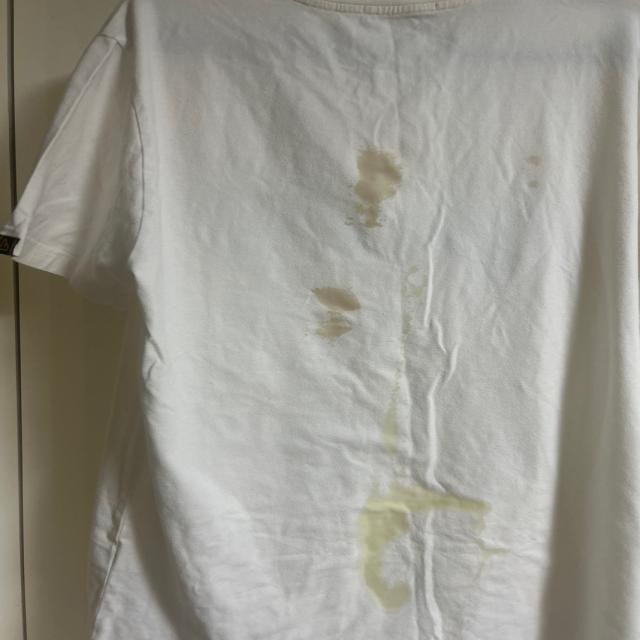stain: (356, 516, 416, 616), (341, 145, 404, 234), (363, 480, 494, 522), (308, 282, 366, 355), (524, 153, 569, 205)
